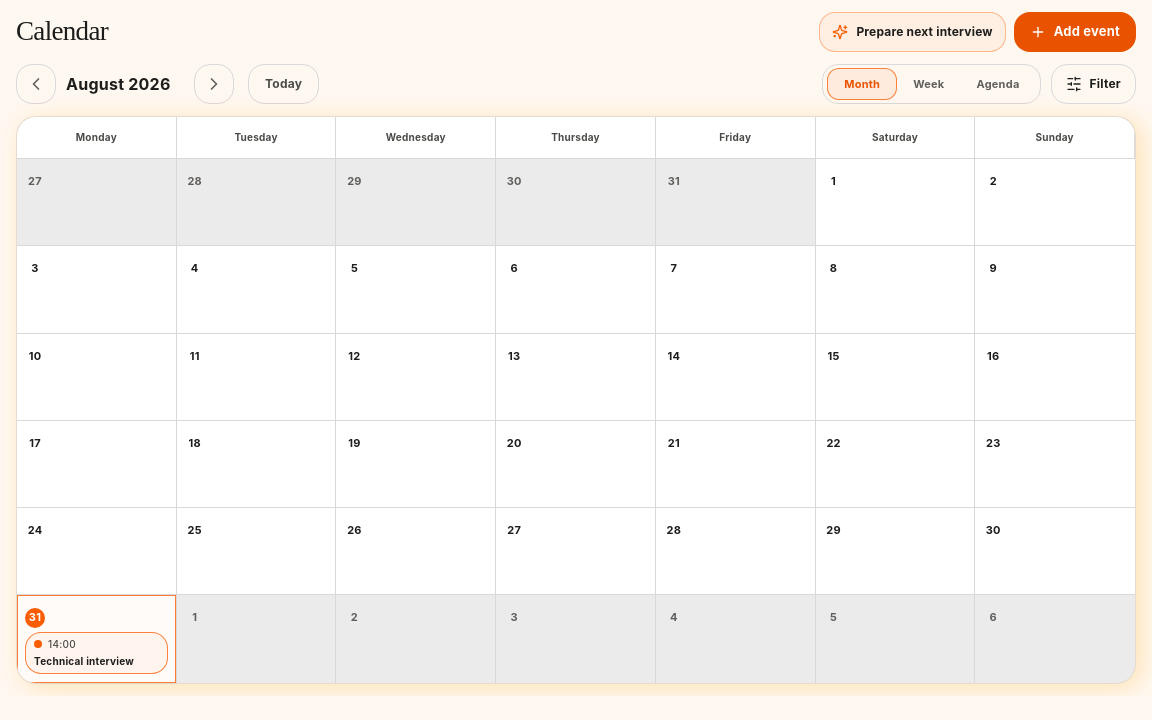
Test: CalendarView › edits an existing event without losing its identity or application
Click the text "Technical interview". click: {"x": 84, "y": 660}
box: x1=34 y1=654 x2=134 y2=666
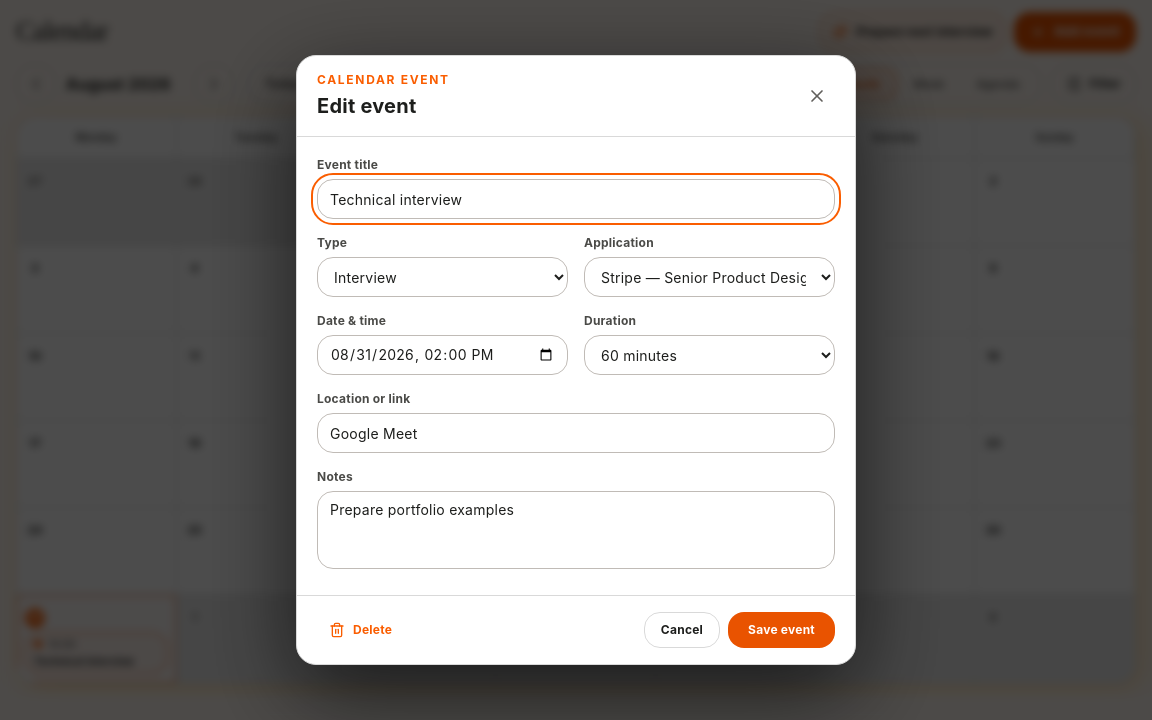
Expected: the heading "Edit event" is shown, x1=317 y1=94 x2=416 y2=118
Replace the text in the field labelled "Event title" with "Updated technical interview". click: {"x": 576, "y": 199}
box: x1=317 y1=179 x2=835 y2=219
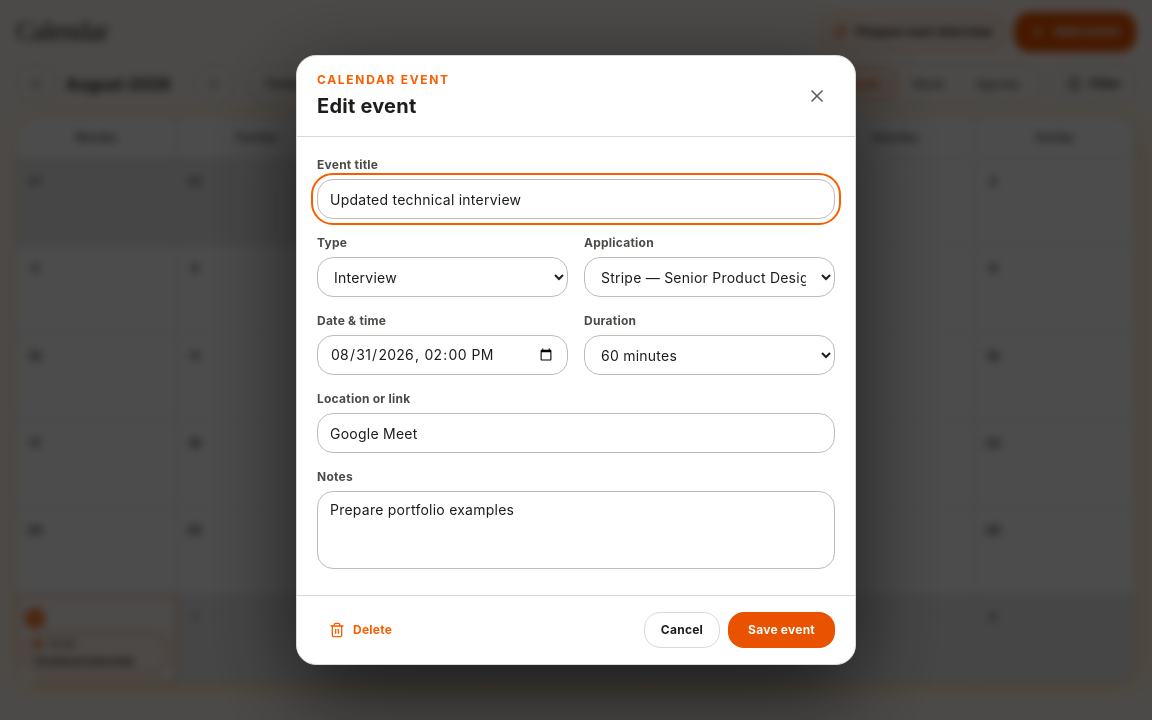
Replace the text in the field labelled "Location or link" with "  Zurich office  ". click: {"x": 576, "y": 433}
box: x1=317 y1=413 x2=835 y2=453
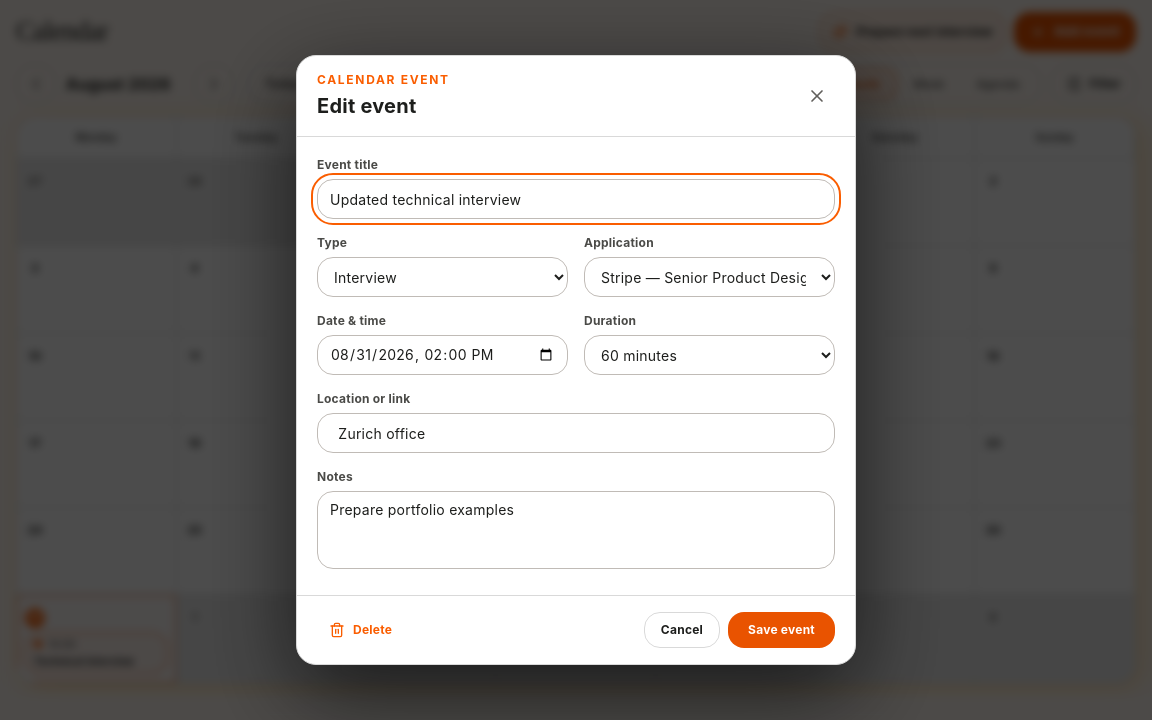
Click the button "Save event". click: {"x": 782, "y": 630}
box: x1=728 y1=612 x2=835 y2=648
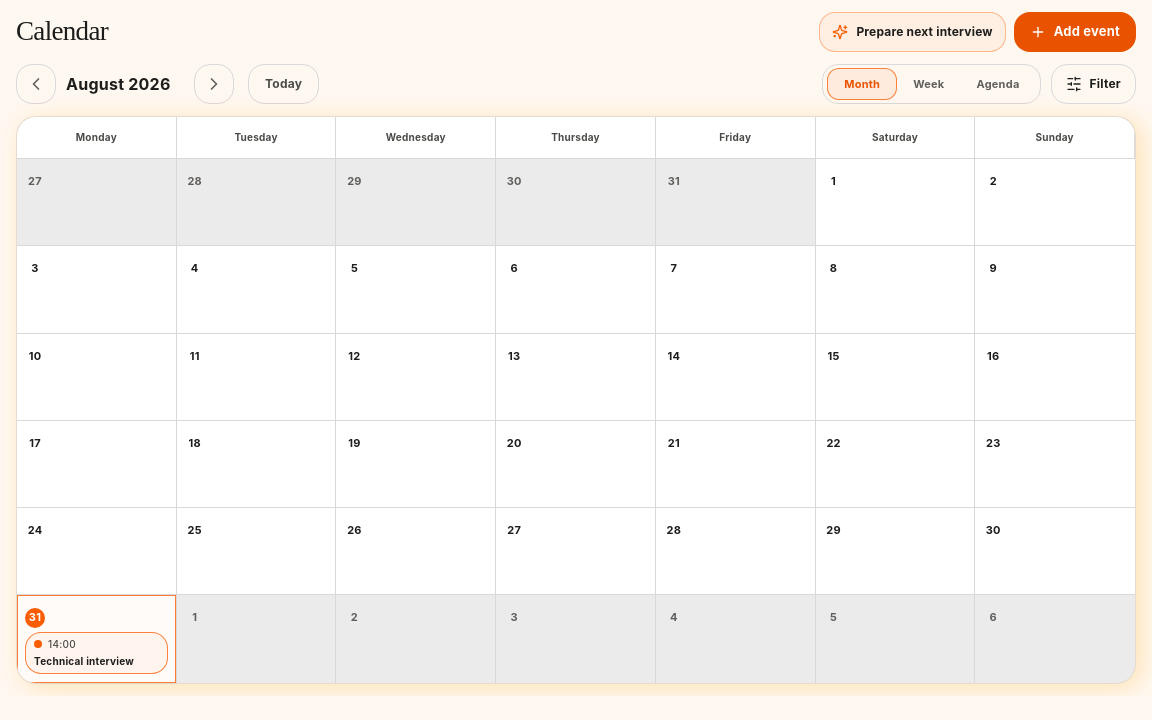
Expected: the heading "Edit event" is gone
